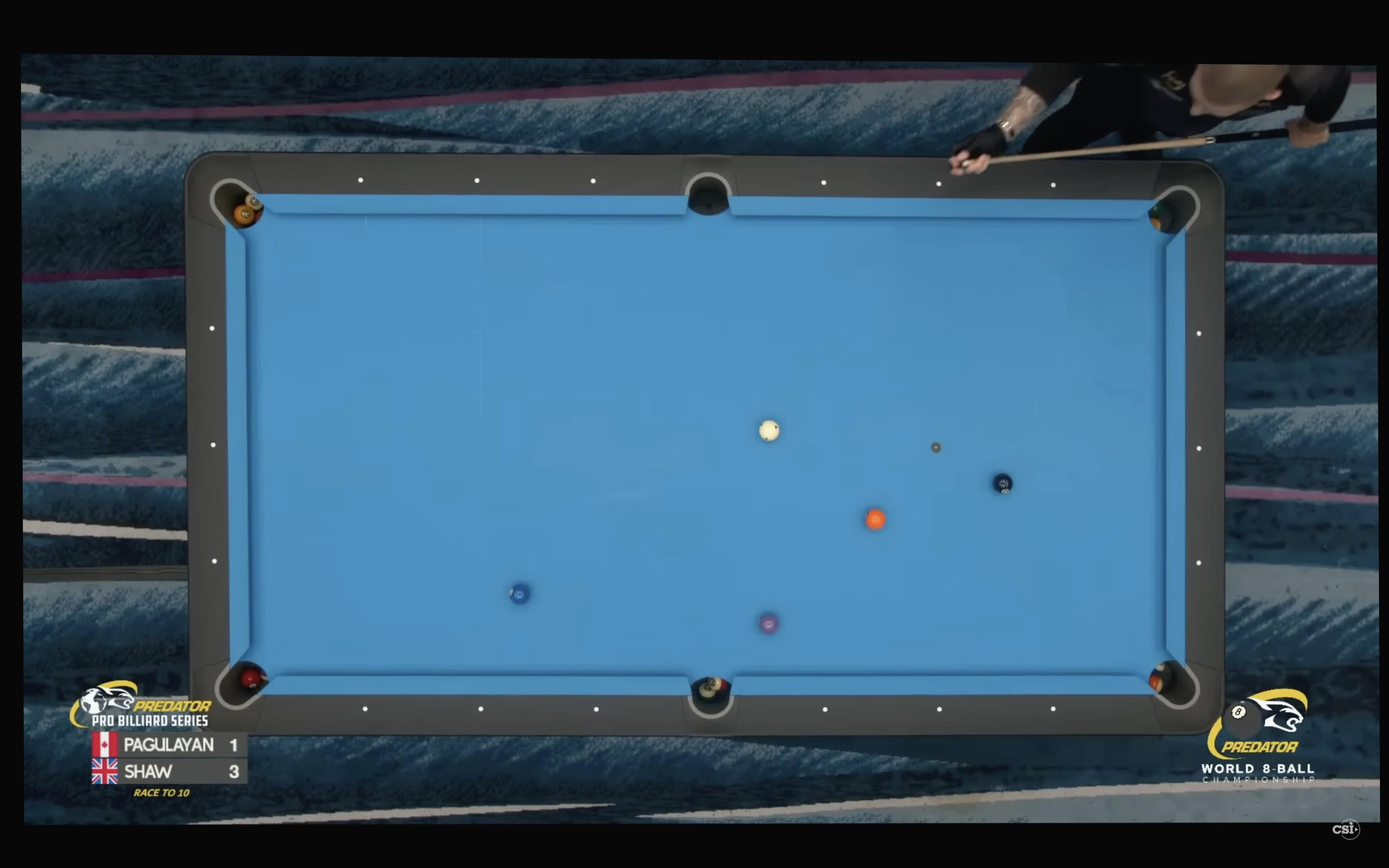Black: (936, 706, 943, 713), (1050, 705, 1057, 712), (1196, 445, 1203, 452), (936, 180, 943, 187), (820, 179, 827, 186), (209, 325, 215, 332), (210, 442, 217, 448), (594, 706, 600, 713), (822, 706, 828, 713), (1196, 330, 1202, 337), (590, 178, 597, 184), (473, 177, 480, 183), (211, 558, 217, 564), (362, 706, 368, 712), (478, 706, 484, 712), (1196, 560, 1202, 566), (358, 177, 364, 183), (1051, 182, 1056, 188)
Cue: (509, 581, 532, 605), (864, 507, 887, 531), (758, 612, 779, 636)
Solid: (990, 472, 1015, 496)
Stripe: (756, 419, 781, 443)
